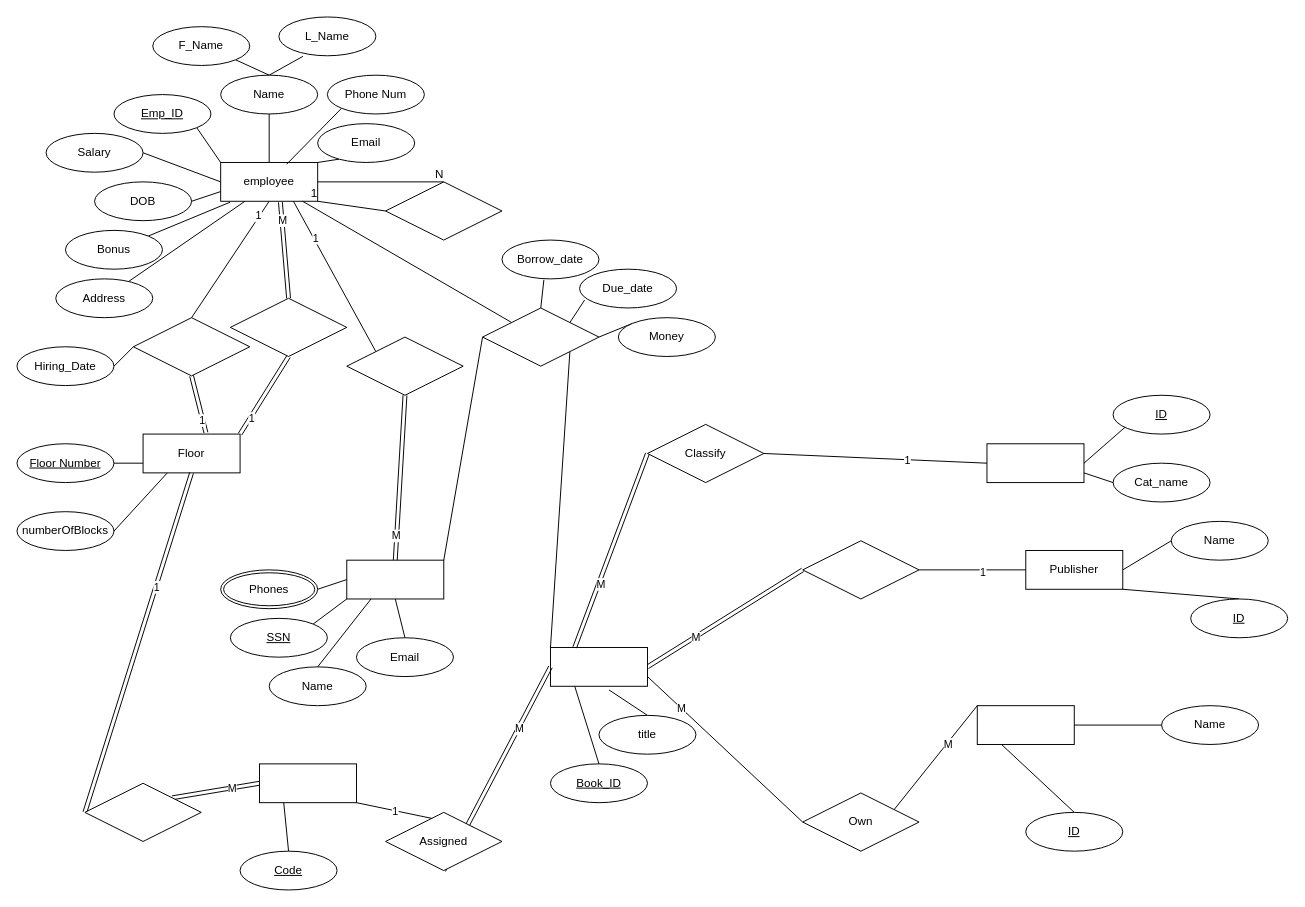
Image size: 1305x907. Some labels were removed from this diagram. Each missing label, with the box of its shape:
Author: (976, 705, 1074, 744)
Book: (550, 647, 647, 686)
Borrow: (482, 307, 599, 366)
category: (986, 443, 1084, 483)
Located: (84, 782, 201, 841)
Manage: (132, 317, 250, 376)
publish: (802, 540, 919, 599)
record: (346, 336, 463, 395)
Shelf: (259, 763, 356, 803)
SuperVise: (385, 181, 502, 240)
User: (346, 559, 444, 599)
work: (229, 297, 347, 356)
